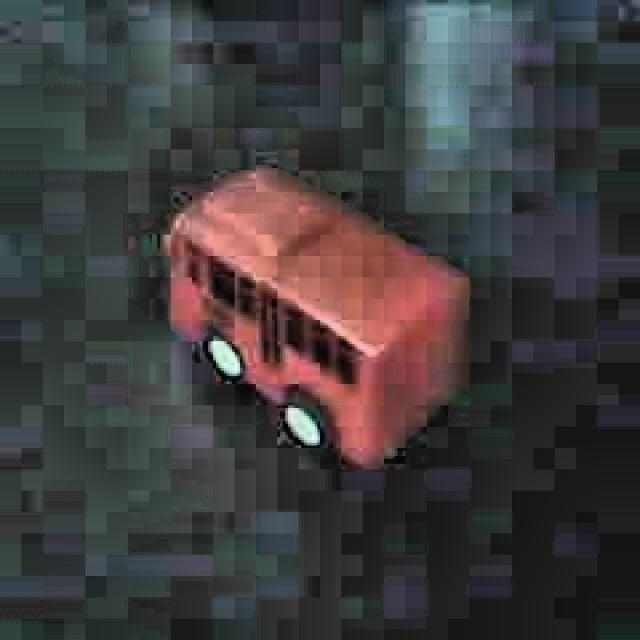bus: (150, 160, 472, 477)
